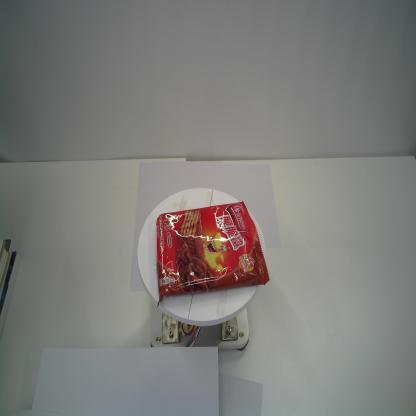Dessert: (155, 200, 270, 310)
